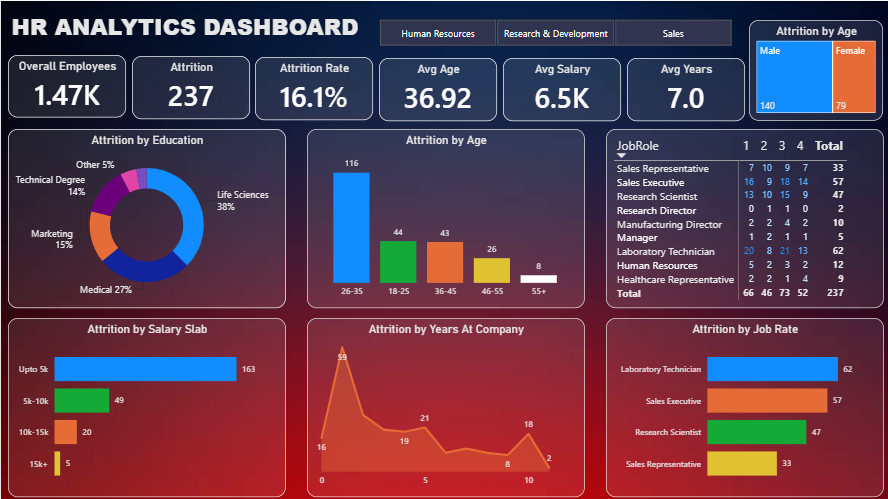

The page's visual inventory and layout, read from the dashboard file:
{"tool":"powerbi","page":{"name":"Page 1","canvas":[1280,720],"ordinal":0},"visuals":[{"type":"cardVisual","title":"Overall Employees","fields":{"Data":["CountNonNull(HR_Analytics.EmpID)"]},"box":[10.2,77.6,170,90],"z":0},{"type":"cardVisual","title":"Attrition","fields":{"Data":["Sum(HR_Analytics.AttritionCount)"]},"box":[188.8,79,169.8,90.7],"z":1000},{"type":"cardVisual","title":"Attrition Rate","fields":{"Data":["HR_Analytics.AttritionRate"]},"box":[365.9,80.5,169.8,90.7],"z":2000},{"type":"cardVisual","title":"Avg Age","fields":{"Data":["Avg(HR_Analytics.Age)"]},"box":[544.4,82,169.8,90.7],"z":3000},{"type":"cardVisual","title":"Avg Salary","fields":{"Data":["Avg(HR_Analytics.MonthlyIncome)"]},"box":[722.9,82,169.8,90.7],"z":4000},{"type":"cardVisual","title":"Avg Years","fields":{"Data":["Avg(HR_Analytics.YearsAtCompany)"]},"box":[901.5,82,169.8,90.7],"z":5000},{"type":"donutChart","title":"Attrition by Education","fields":{"Category":["HR_Analytics.EducationField"],"Y":["Sum(HR_Analytics.AttritionCount)"]},"box":[10.2,184.4,399.5,257.6],"z":6000},{"type":"columnChart","title":"Attrition by Age","fields":{"Category":["HR_Analytics.AgeGroup"],"Y":["Sum(HR_Analytics.AttritionCount)"]},"box":[440.5,184.4,399.5,257.6],"z":7000},{"type":"pivotTable","fields":{"Rows":["HR_Analytics.JobRole"],"Columns":["HR_Analytics.JobSatisfaction"],"Values":["Sum(HR_Analytics.AttritionCount)"]},"box":[870.7,184.4,399.5,257.6],"z":8000},{"type":"barChart","title":"Attrition by Salary Slab","fields":{"Category":["HR_Analytics.SalarySlab"],"Y":["Sum(HR_Analytics.AttritionCount)"]},"box":[10.2,456.6,399.5,257.6],"z":9000},{"type":"barChart","title":"Attrition by Job Rate","fields":{"Category":["HR_Analytics.JobRole"],"Y":["Sum(HR_Analytics.AttritionCount)"]},"box":[870.7,456.6,399.5,257.6],"z":10000},{"type":"areaChart","title":"Attrition by Years At Company","fields":{"Category":["HR_Analytics.YearsAtCompany"],"Y":["Sum(HR_Analytics.AttritionCount)"]},"box":[440.5,456.6,399.5,257.6],"z":11000},{"type":"treemap","title":"Attrition by Age","fields":{"Group":["HR_Analytics.Gender"],"Values":["Sum(HR_Analytics.AttritionCount)"]},"box":[1077.1,27.8,193.2,144.9],"z":12000},{"type":"slicer","fields":{"Values":["HR_Analytics.Department"]},"box":[519.5,20.5,556.1,51.2],"z":13000},{"type":"textbox","box":[10.2,8.8,538.5,70.2],"z":14000}]}

Visuals, with their boxes in screenshot pixels (x1, y1, x2, y2), scaled from the page's 1280x720 canvas onto the 888x499 screenshot:
"Overall Employees" cardVisual: box=[7, 54, 125, 116]
"Attrition" cardVisual: box=[131, 55, 249, 118]
"Attrition Rate" cardVisual: box=[254, 56, 372, 119]
"Avg Age" cardVisual: box=[378, 57, 495, 120]
"Avg Salary" cardVisual: box=[502, 57, 619, 120]
"Avg Years" cardVisual: box=[625, 57, 743, 120]
"Attrition by Education" donutChart: box=[7, 128, 284, 306]
"Attrition by Age" columnChart: box=[306, 128, 583, 306]
pivotTable - HR_Analytics.JobRole x HR_Analytics.JobSatisfaction: box=[604, 128, 881, 306]
"Attrition by Salary Slab" barChart: box=[7, 316, 284, 495]
"Attrition by Job Rate" barChart: box=[604, 316, 881, 495]
"Attrition by Years At Company" areaChart: box=[306, 316, 583, 495]
"Attrition by Age" treemap: box=[747, 19, 881, 120]
slicer - HR_Analytics.Department: box=[360, 14, 746, 50]
textbox: box=[7, 6, 381, 55]
